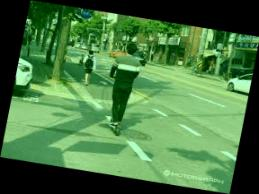nonhelmet: (96, 40, 150, 139)
